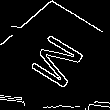M_SE: (24, 26, 89, 92)
